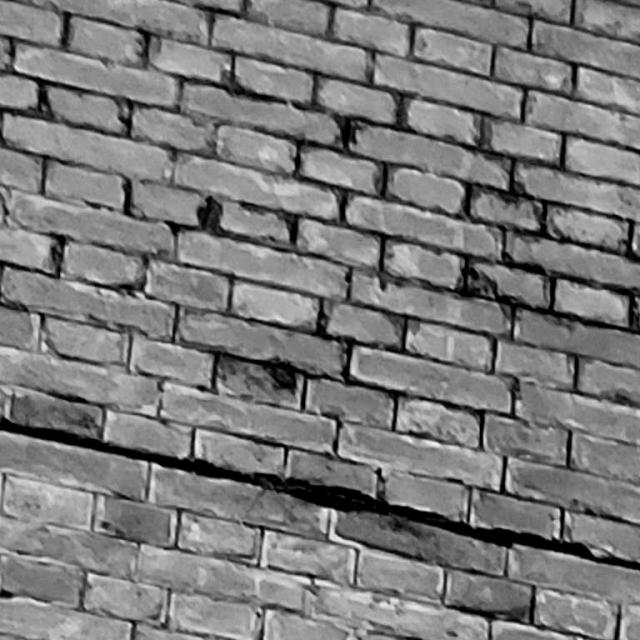crack: (1, 416, 640, 571)
